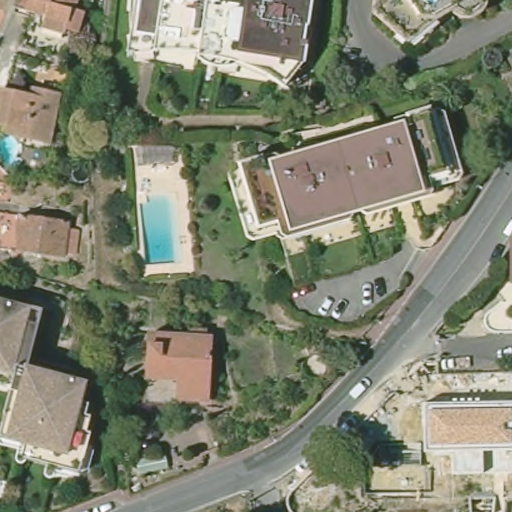pool: (134, 190, 183, 268), (1, 128, 25, 175)
